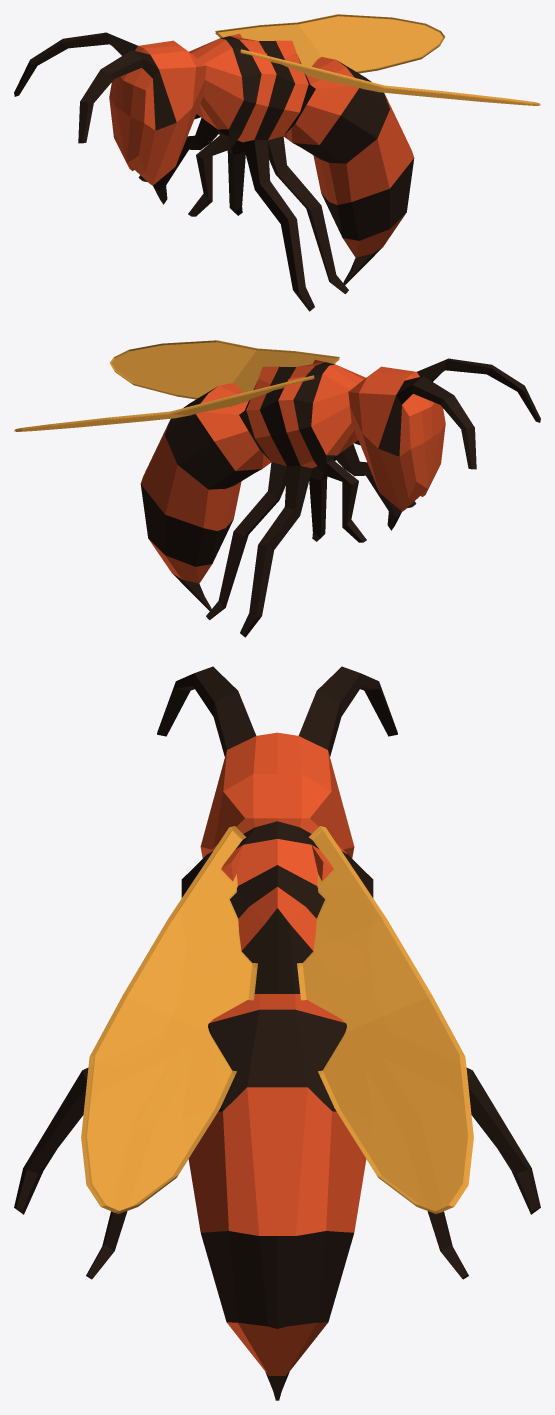
Rendered from stylised wasp red.fbx.
The picture shows the model from 3 angles, top to bottom: view 1: azimuth 30°, elevation 25°; view 2: azimuth 150°, elevation 25°; view 3: azimuth 270°, elevation 25°; orthographic projection. The views are drawn at different scales.
Visible parts, largest first — view 1: Plane; view 2: Plane; view 3: Plane.
Boxes of the visible parts, bbox=[...] form: Plane: bbox=[14, 14, 540, 311]; Plane: bbox=[14, 340, 540, 637]; Plane: bbox=[14, 666, 540, 1400].
Size of the model in its own units: 410 by 265 by 243.
